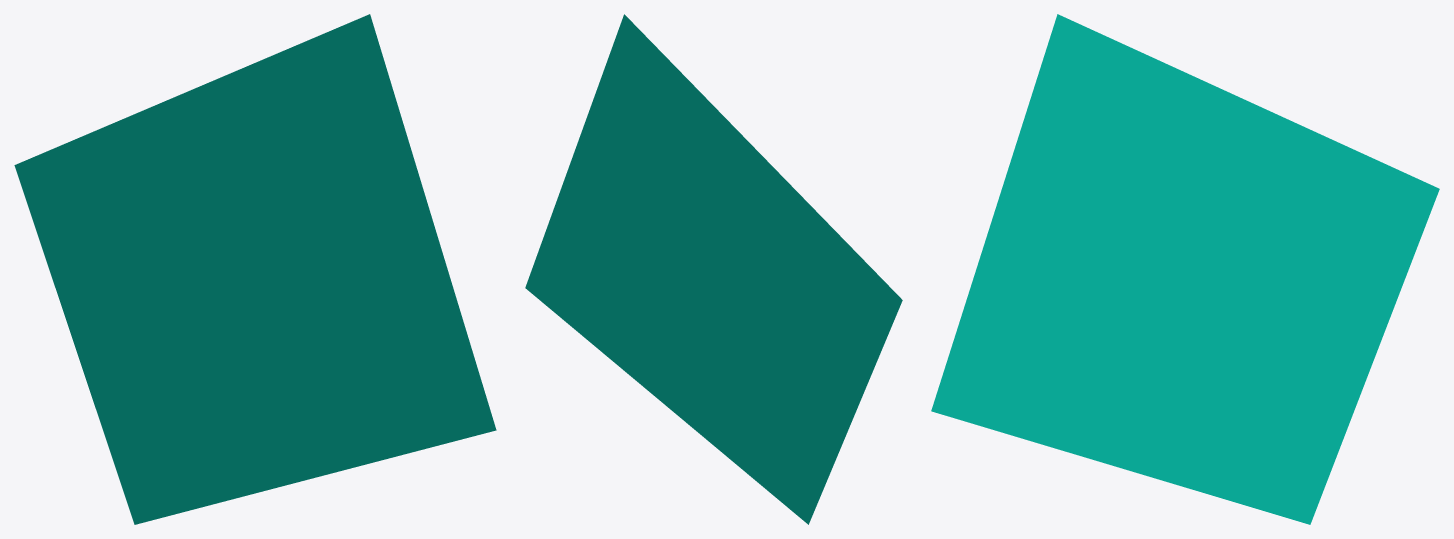
Rendered from deco_kazari5.gltf.
3 views of the same model, side by side, from view 1: azimuth 30°, elevation 25°; view 2: azimuth 210°, elevation 25°; view 3: azimuth 270°, elevation 25° (orthographic). The views are drawn at different scales.
Visible parts, largest first — view 1: deco_kazari5; view 2: deco_kazari5; view 3: deco_kazari5.
Part boxes in pixels (left/top/right/bottom): deco_kazari5: left=14, top=14, right=496, bottom=524; deco_kazari5: left=525, top=14, right=902, bottom=524; deco_kazari5: left=931, top=14, right=1439, bottom=524.
Size of the model in its own units: 0.1155 by 0.2947 by 0.2427.
